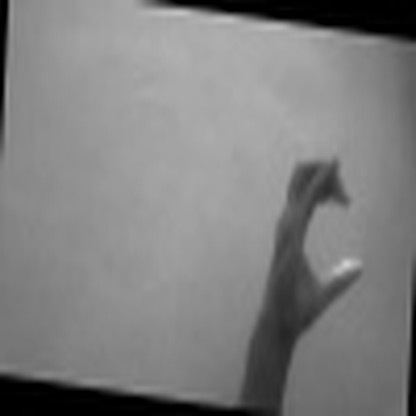c: (265, 147, 366, 332)
